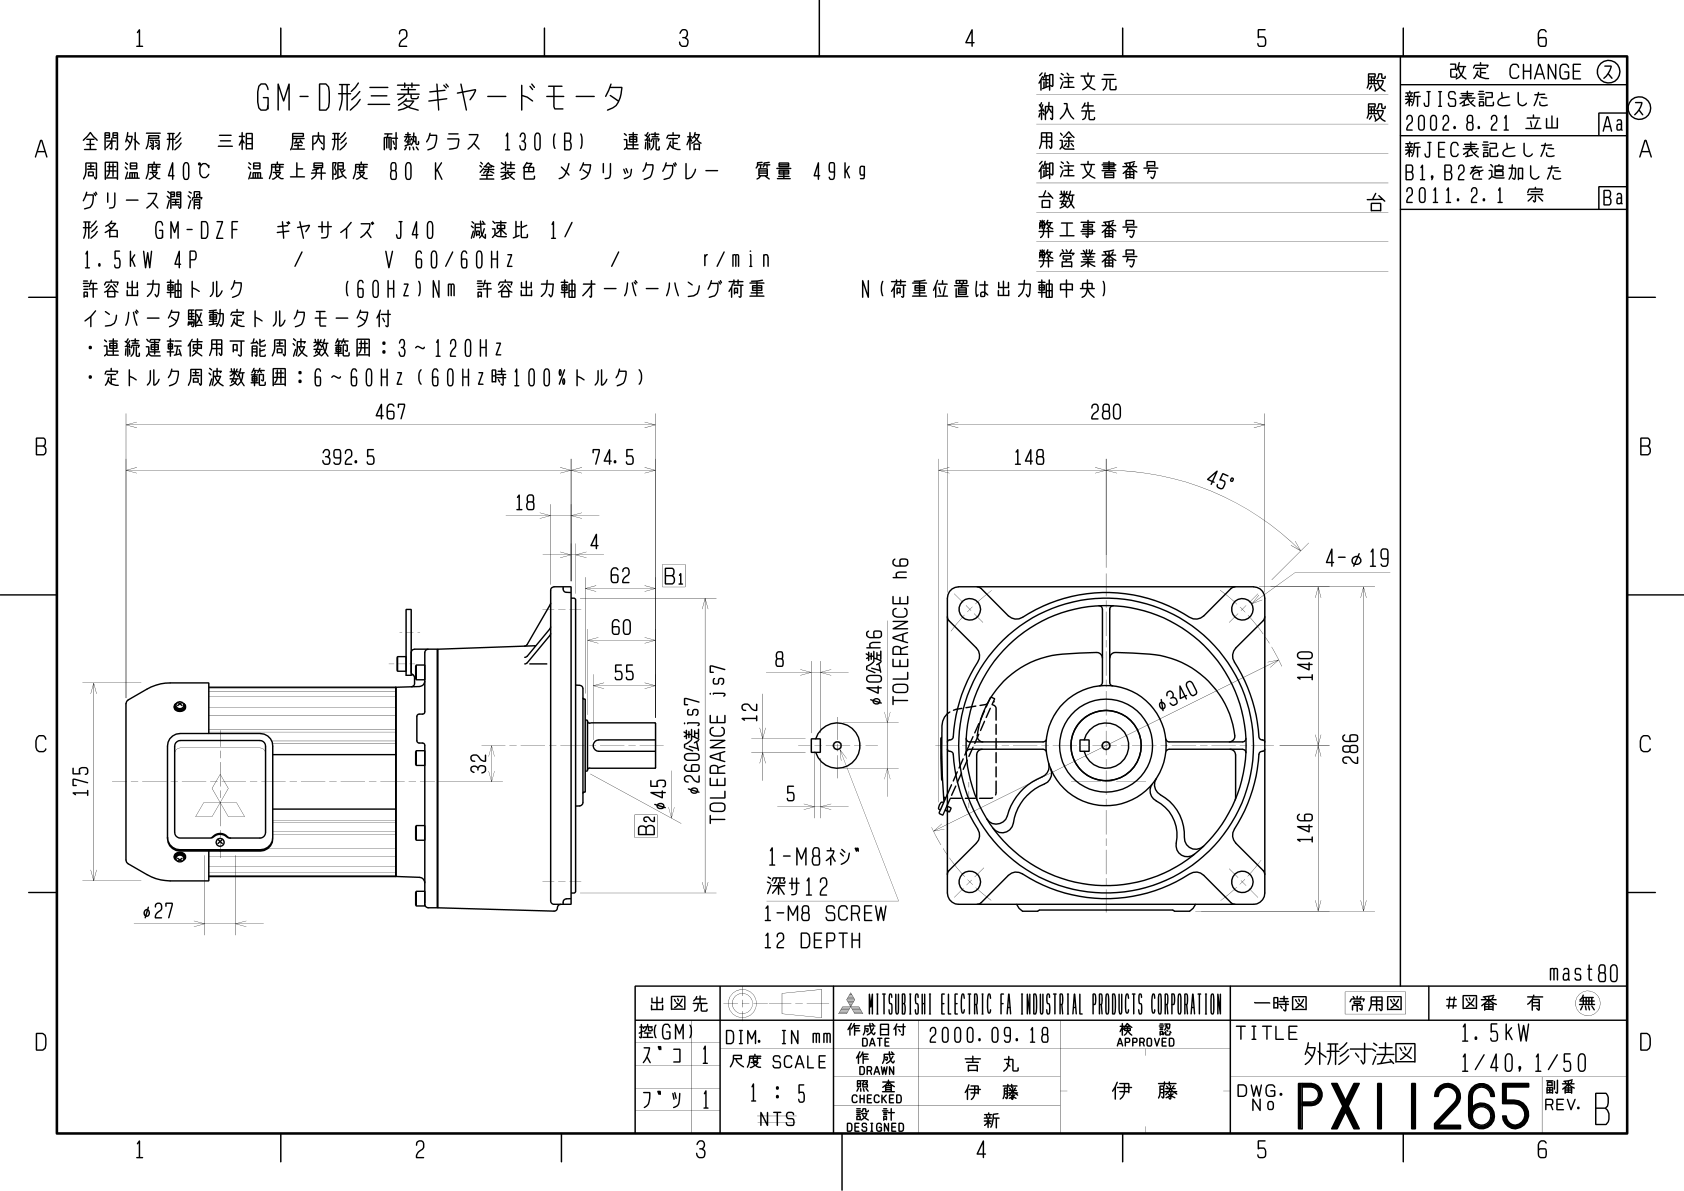GM_D_インバータ屋内_三相_フランジ: (10, 3, 1684, 1191)
